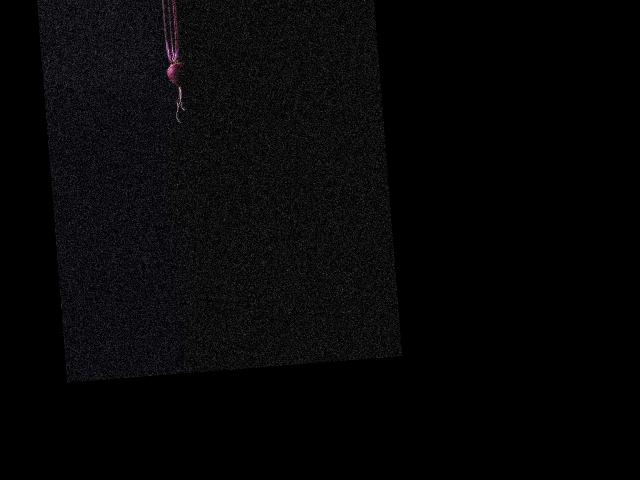beet: (163, 36, 193, 123)
